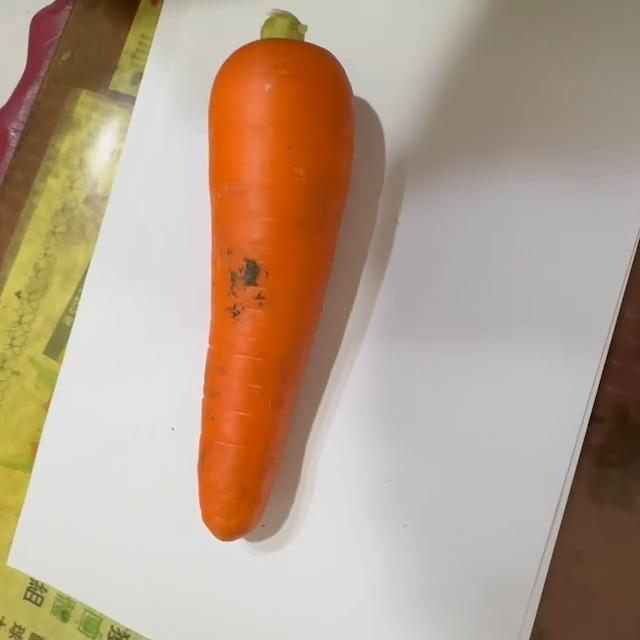carrot: (198, 10, 358, 546)
